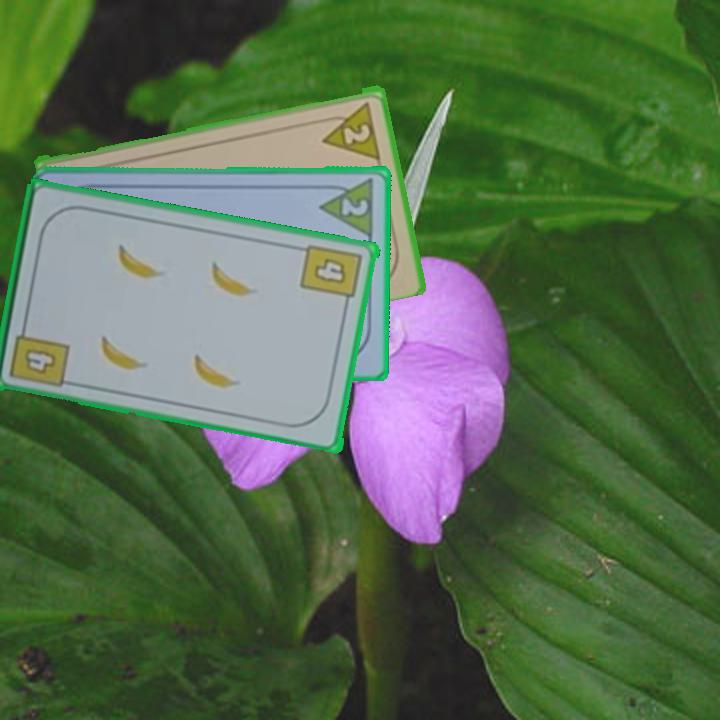2p: (340, 119, 374, 146), (338, 194, 371, 218)
4b: (298, 240, 366, 312), (6, 319, 72, 390)
